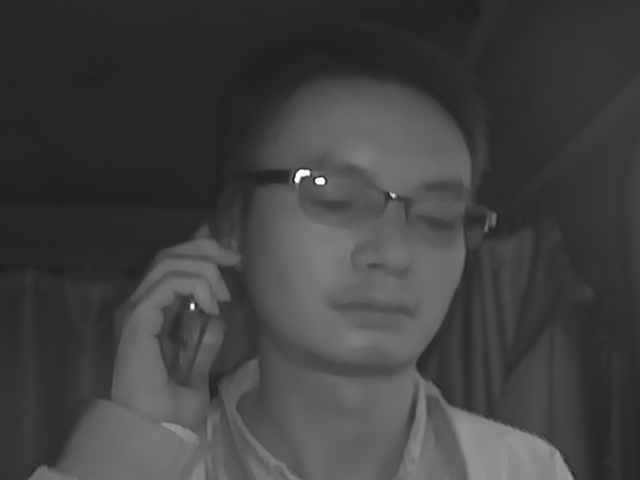hand: (105, 235, 235, 427)
